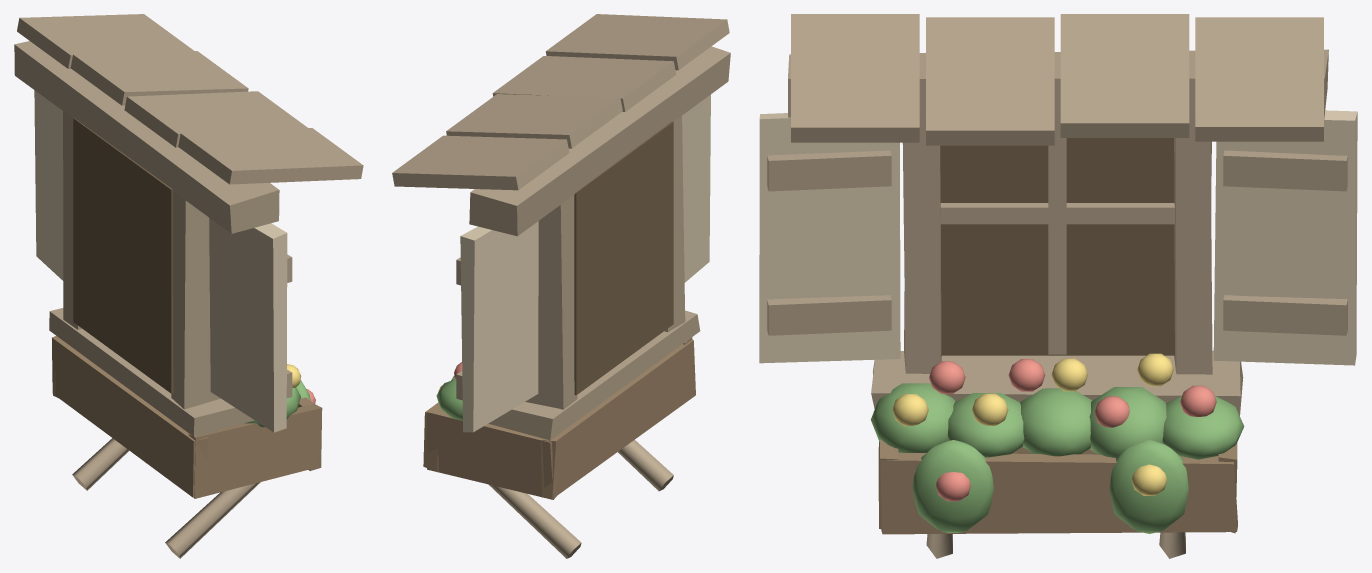
The model's file is building.window.glb.
3 renders of one model, left to right at view 1: azimuth 30°, elevation 25°; view 2: azimuth 150°, elevation 25°; view 3: azimuth 270°, elevation 25°, orthographic. The views are drawn at different scales.
Visible parts, largest first — view 1: PaintDark, Door, Paint, Wood, Leaf; view 2: PaintDark, Door, Paint, Wood, Leaf; view 3: PaintDark, Paint, Door, Leaf, Wood, FruitGold, FruitRed.
Boxes of the visible parts, box(x1,y1,x2,y2) form: PaintDark: box(14, 14, 363, 558); Door: box(73, 118, 173, 393); Paint: box(34, 90, 287, 432); Wood: box(52, 336, 322, 498); Leaf: box(245, 380, 310, 427); PaintDark: box(392, 14, 730, 558); Door: box(574, 121, 673, 395); Paint: box(460, 94, 710, 432); Wood: box(423, 337, 695, 499); Leaf: box(436, 376, 462, 420); PaintDark: box(767, 14, 1347, 558); Paint: box(759, 110, 1357, 365); Door: box(940, 138, 1174, 454); Leaf: box(870, 383, 1244, 533); Wood: box(878, 439, 1237, 534); FruitGold: box(892, 353, 1173, 495); FruitRed: box(929, 359, 1216, 501).
Size of the model in its own units: 0.3585 by 0.9748 by 0.9767.
